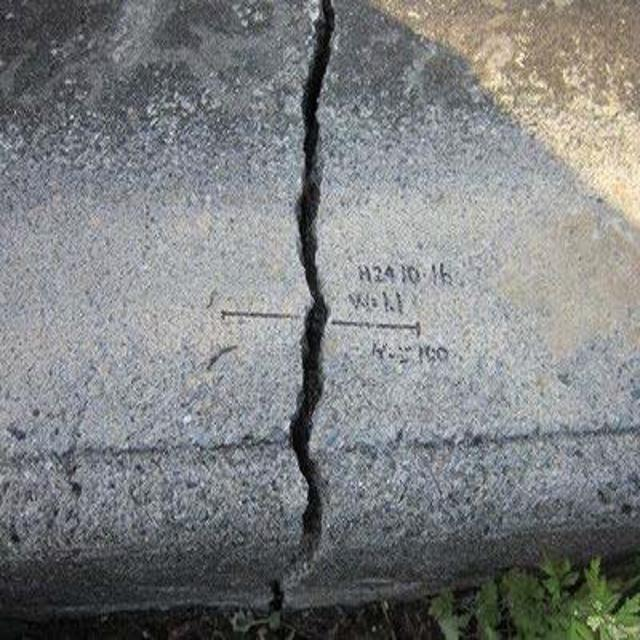crack: (267, 6, 364, 626)
